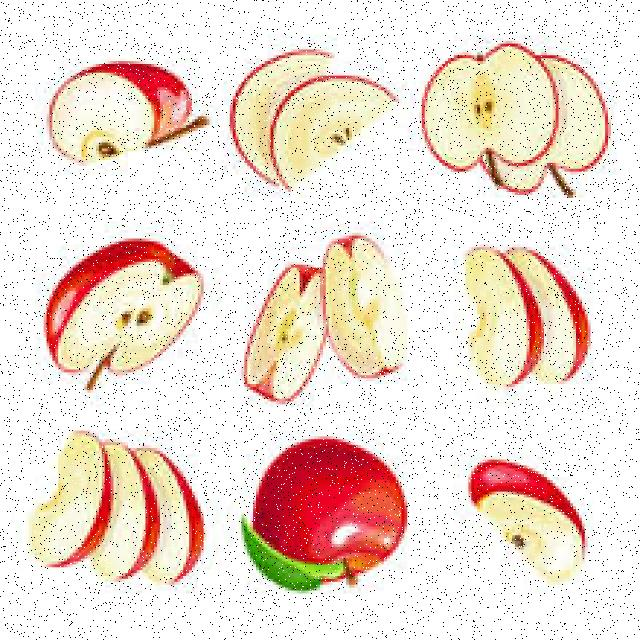Apple: (48, 235, 200, 397), (253, 440, 405, 586), (42, 64, 210, 163), (422, 52, 556, 166), (497, 65, 614, 189), (468, 462, 586, 584), (271, 84, 399, 188), (226, 46, 317, 187), (324, 233, 409, 376), (246, 263, 327, 408), (458, 240, 534, 392), (31, 426, 105, 573), (143, 438, 204, 588), (534, 244, 592, 384), (102, 440, 151, 586)
